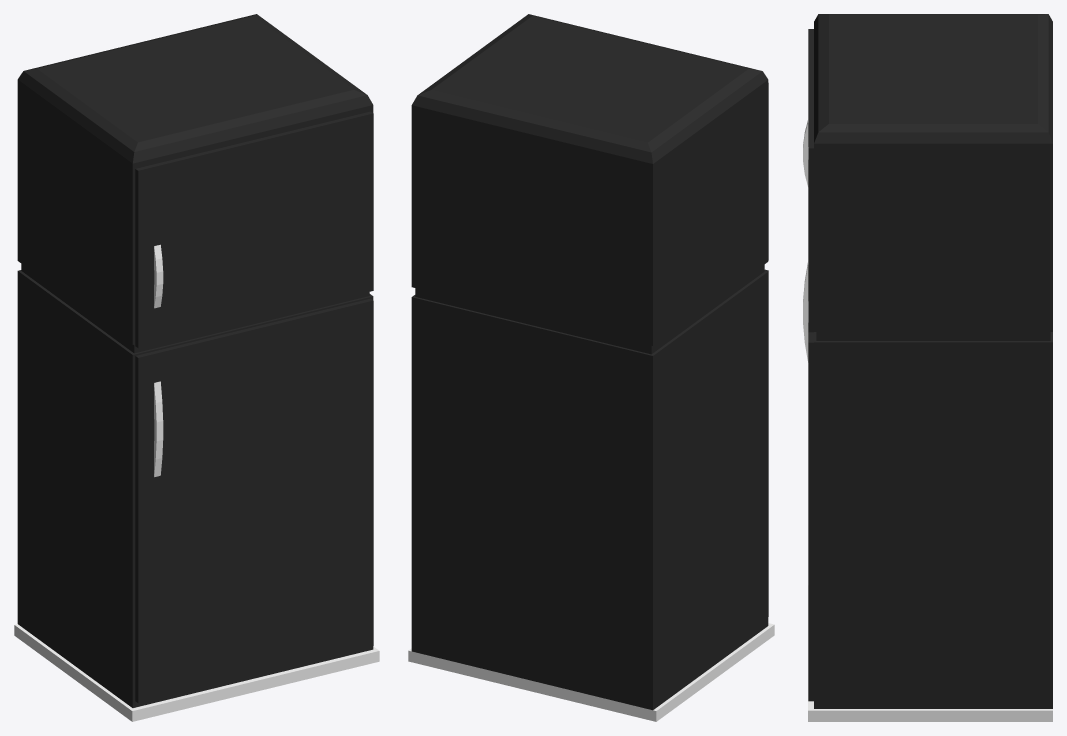
File: Refrigerator_2.fbx
The picture shows the model from 3 angles, left to right: view 1: azimuth 30°, elevation 25°; view 2: azimuth 150°, elevation 25°; view 3: azimuth 270°, elevation 25°; orthographic projection. The views are drawn at different scales.
Visible parts, largest first — view 1: Refrigerator_2; view 2: Refrigerator_2; view 3: Refrigerator_2.
Part boxes in pixels (<box>): Refrigerator_2: <box>14,14,379,721</box>; Refrigerator_2: <box>408,14,774,721</box>; Refrigerator_2: <box>803,14,1052,721</box>.
Size of the model in its own units: 0.9432 by 2.07 by 0.7951.
